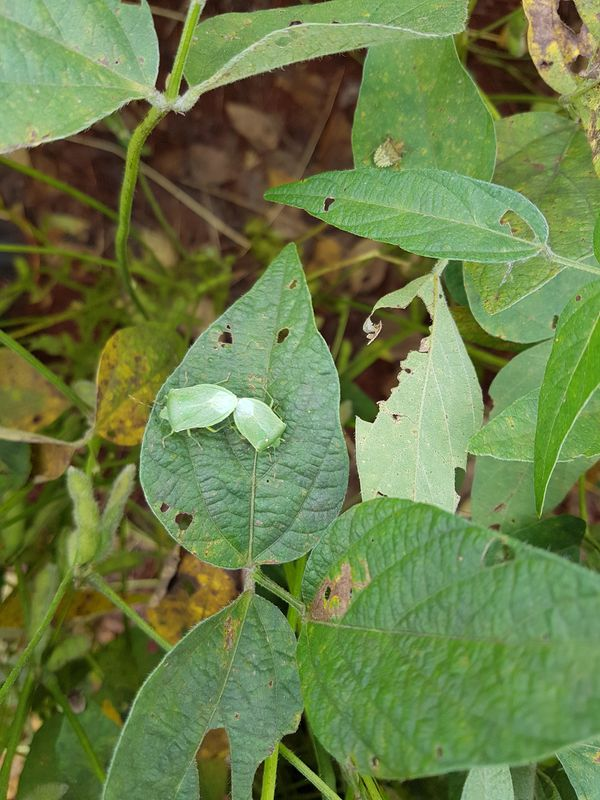Euschistus_heros_ninfa: (362, 130, 417, 173)
Nezara_viridula_adulto: (133, 367, 235, 458), (236, 378, 299, 467)
